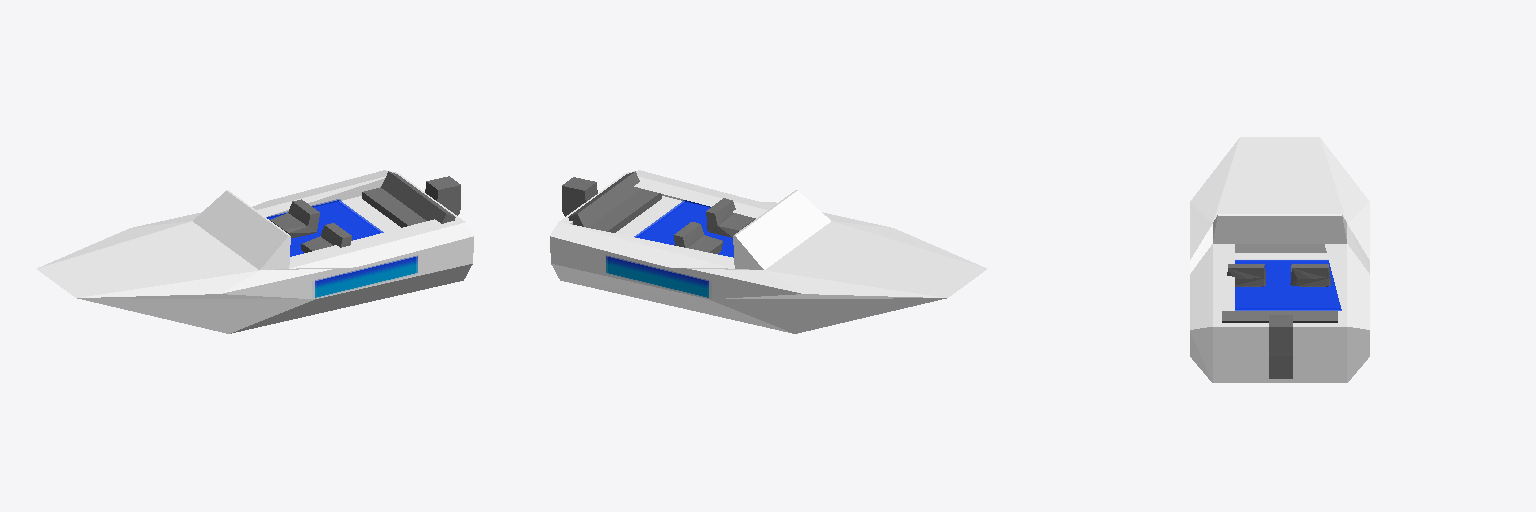
3 renders of one model, left to right at view 1: azimuth 30°, elevation 25°; view 2: azimuth 150°, elevation 25°; view 3: azimuth 270°, elevation 25°, orthographic.
Visible parts, largest first — view 1: boat group, polySurface1, group front_seatR, polySurface2, group front_seatL; view 2: boat group, polySurface1, group front_seatL, group front_seatR, polySurface2; view 3: boat group, polySurface2, polySurface1, group front_seatR, group front_seatL.
Part boxes in pixels (x1,y1,x2,y2): boat group: (37, 170, 473, 333); polySurface1: (362, 171, 455, 227); group front_seatR: (270, 199, 319, 237); polySurface2: (425, 176, 460, 215); group front_seatL: (301, 223, 351, 252); boat group: (550, 170, 986, 333); polySurface1: (568, 171, 661, 232); group front_seatL: (706, 198, 755, 237); group front_seatR: (674, 222, 723, 253); polySurface2: (562, 177, 597, 216); boat group: (1190, 137, 1369, 382); polySurface2: (1269, 315, 1292, 378); polySurface1: (1222, 311, 1337, 322); group front_seatR: (1290, 264, 1330, 286); group front_seatL: (1227, 264, 1265, 286).
Size of the model in its own units: 23.99 by 4.86 by 9.36.
3 materials, 1 textured.